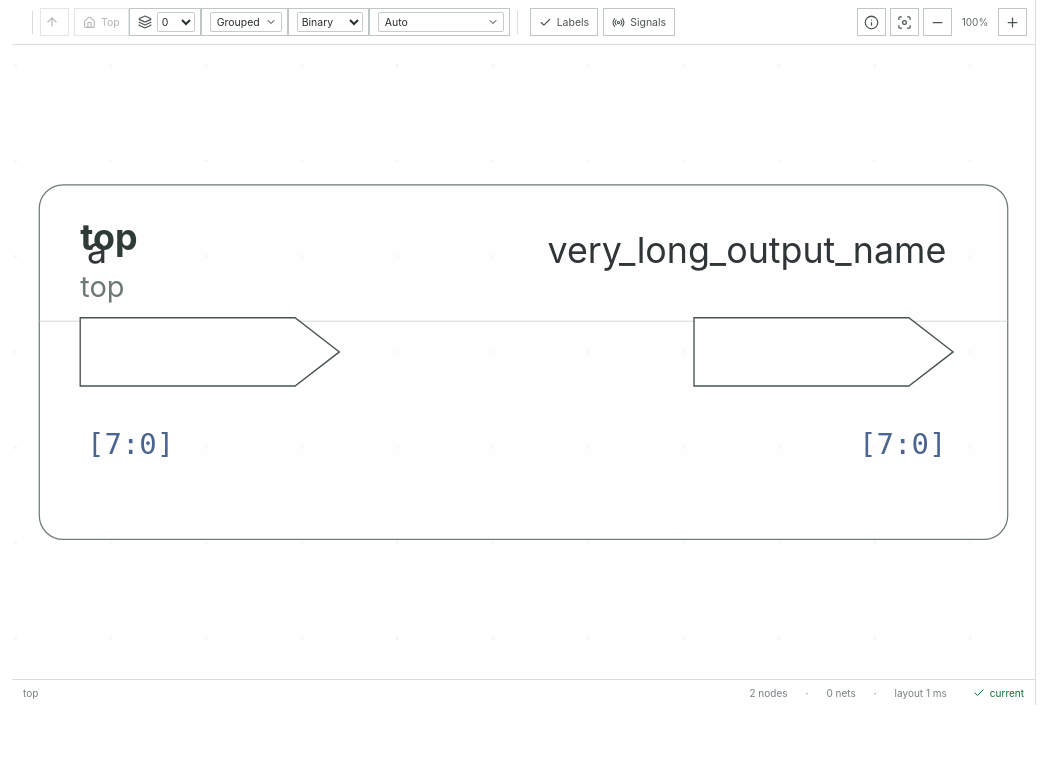
Test case: SchematicCanvas node symbols › points output boundary symbols toward the outside of the circuit
Click the button "Signals" at [639, 22], box [603,8,675,36]
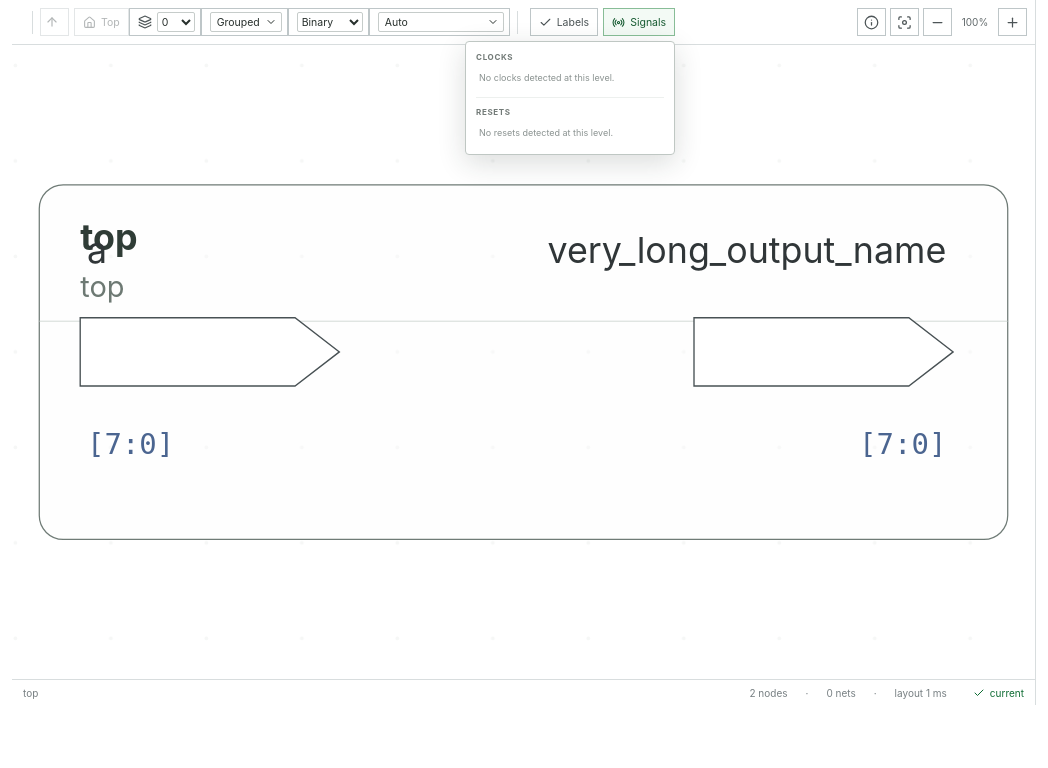
expect the text "No clocks detected at this level." is shown: met, box [479,72,614,83]
expect the text "No resets detected at this level." is shown: met, box [479,127,613,138]
